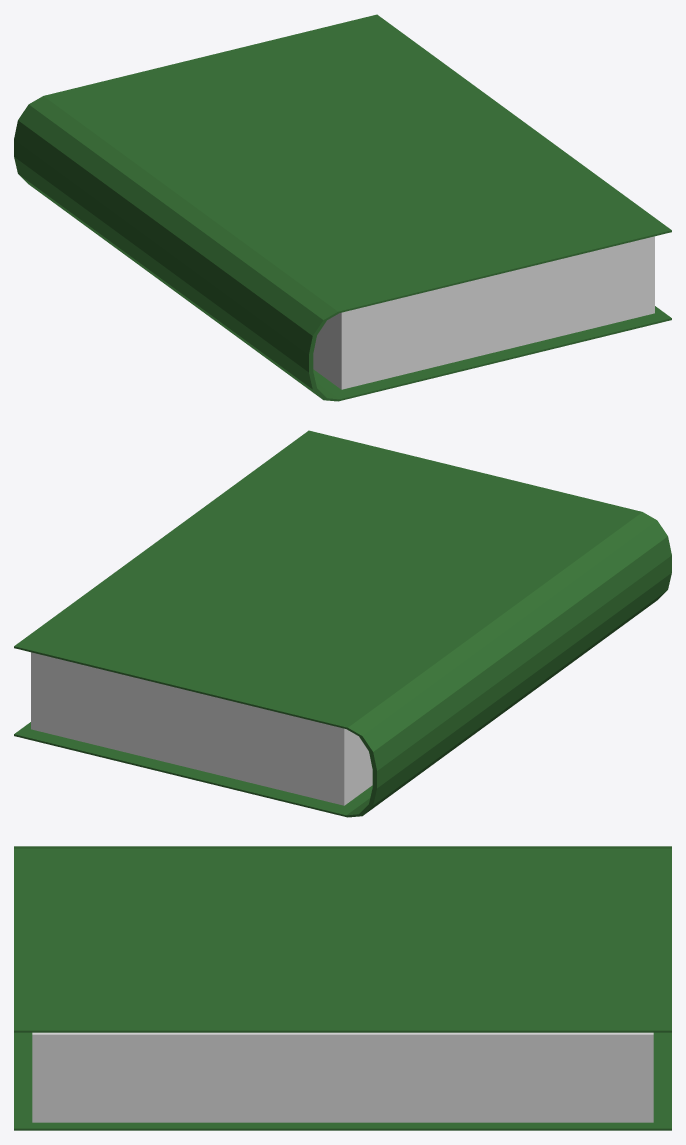
Rendered from Book1.fbx.
The picture shows the model from 3 angles, top to bottom: view 1: azimuth 30°, elevation 25°; view 2: azimuth 150°, elevation 25°; view 3: azimuth 270°, elevation 25°; orthographic projection. The views are drawn at different scales.
Parts seen in each view (by area): view 1: Cover, Thicc paper; view 2: Cover, Thicc paper; view 3: Cover, Thicc paper.
Part boxes in pixels (left/top/right/bottom): Cover: left=14, top=14, right=671, bottom=401; Thicc paper: left=313, top=236, right=654, bottom=389; Cover: left=14, top=430, right=671, bottom=817; Thicc paper: left=31, top=652, right=372, bottom=805; Cover: left=14, top=846, right=671, bottom=1130; Thicc paper: left=32, top=1032, right=653, bottom=1122.
Size of the model in its own units: 28.91 by 6.83 by 40.66.
